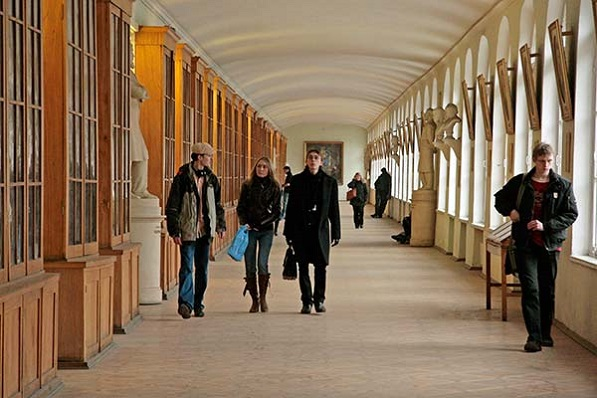students: (495, 142, 579, 352), (164, 141, 227, 319), (284, 148, 342, 314), (231, 155, 282, 314), (346, 172, 367, 229), (370, 167, 392, 217), (281, 165, 293, 220)
